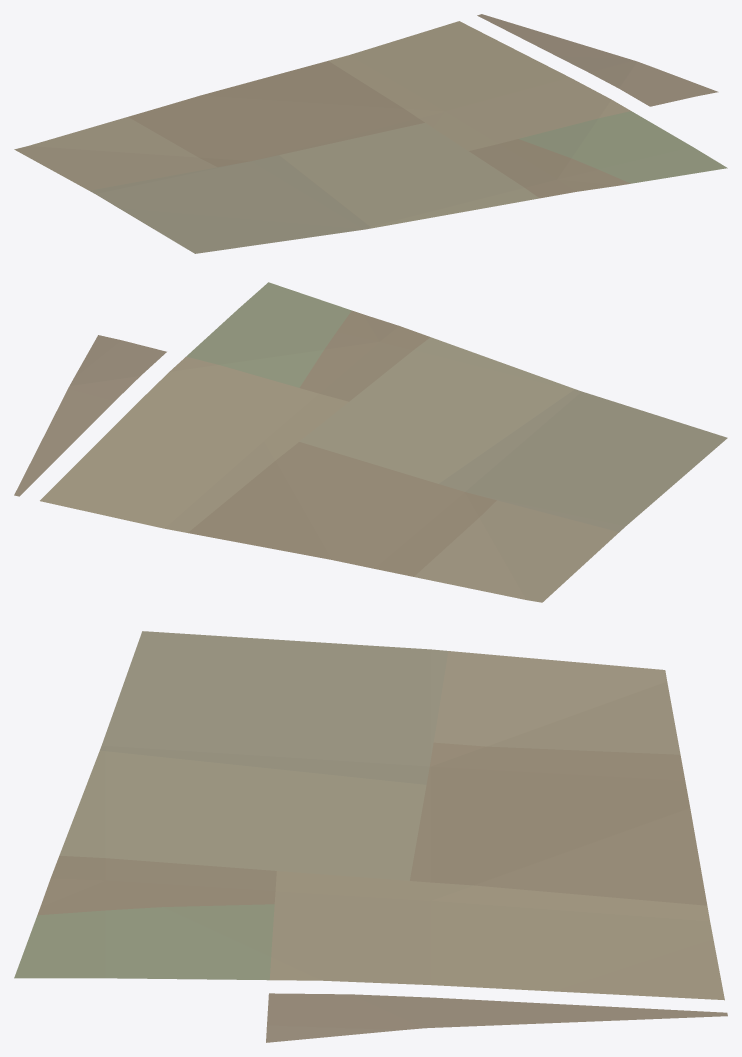
Rendered from farm_3_16_soil.glb.
3 views of the same model, one above another, from view 1: azimuth 30°, elevation 25°; view 2: azimuth 150°, elevation 25°; view 3: azimuth 270°, elevation 25° (orthographic). The views are drawn at different scales.
Parts seen in each view (by area): view 1: geometry_0; view 2: geometry_0; view 3: geometry_0.
Boxes of the visible parts, x1=… form: geometry_0: x1=14, y1=14, x2=727, y2=253; geometry_0: x1=14, y1=282, x2=727, y2=602; geometry_0: x1=14, y1=631, x2=727, y2=1042.
Size of the model in its own units: 234 by 11.73 by 176.
